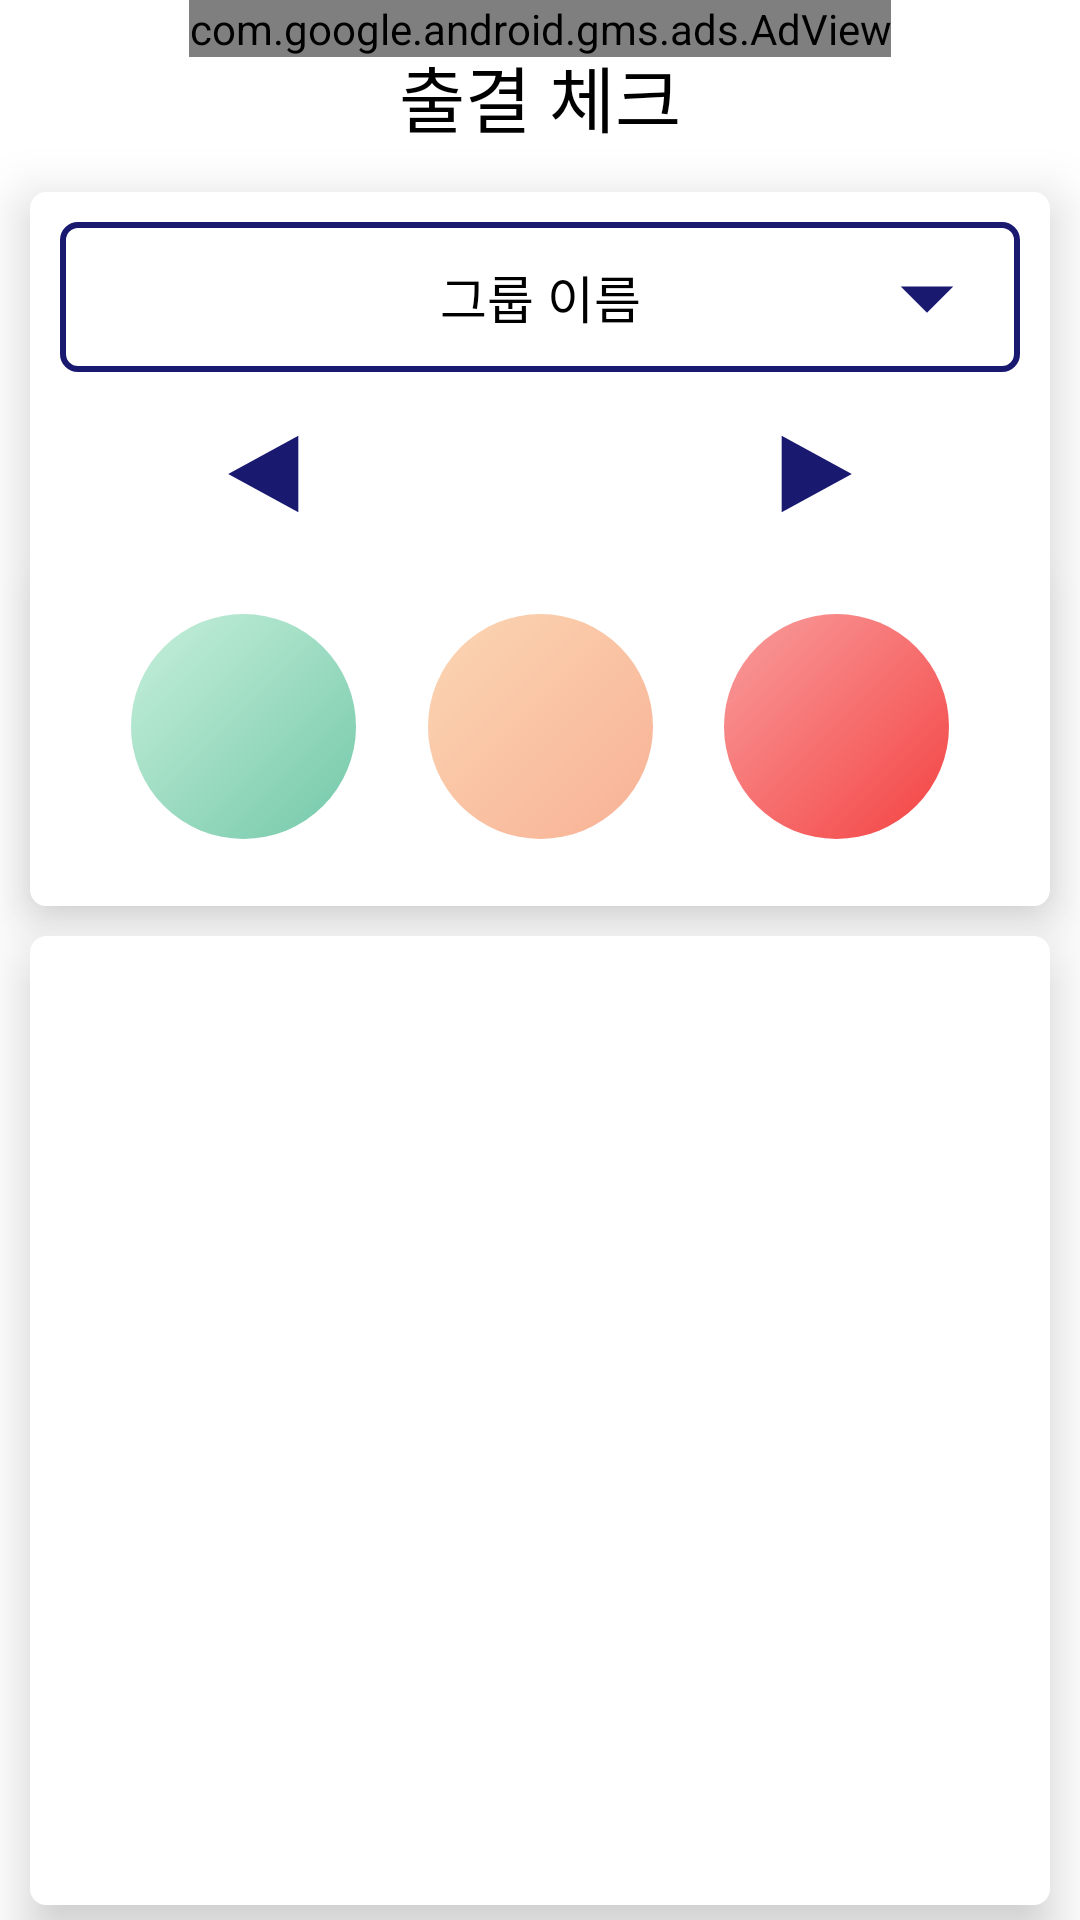

Icons on this 1080*1920 Android screen, each with its box as (x1, y1, x2, y2):
arrow left: (228, 436, 299, 512)
arrow right: (781, 436, 852, 512)
textView안에 있는 화살표: (901, 286, 953, 313)
